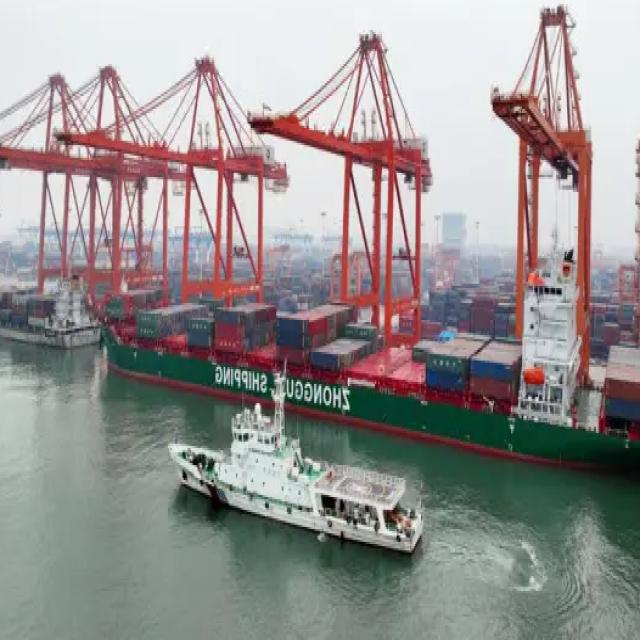passenger ship: (161, 384, 426, 557)
